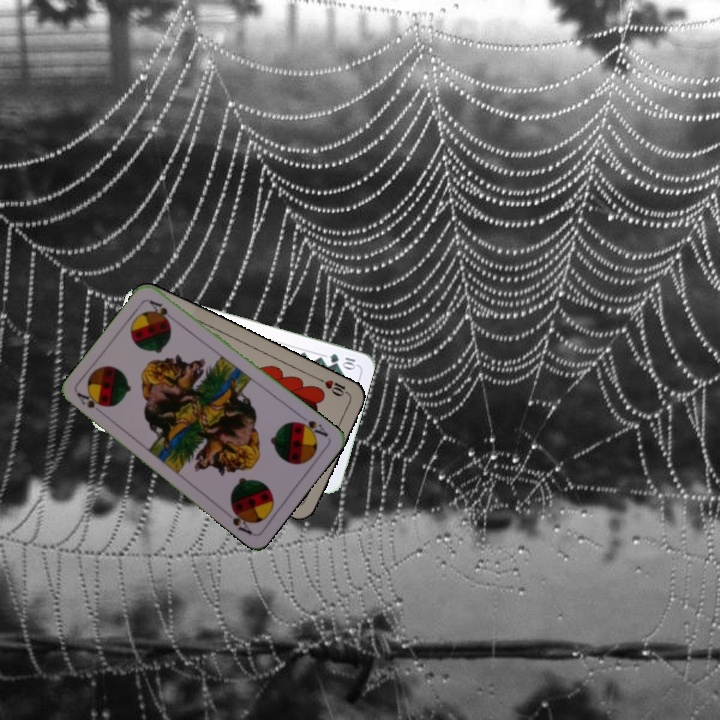G10: (326, 349, 359, 371)
H10: (315, 374, 352, 399)
SA: (73, 388, 108, 419), (292, 416, 331, 440)
